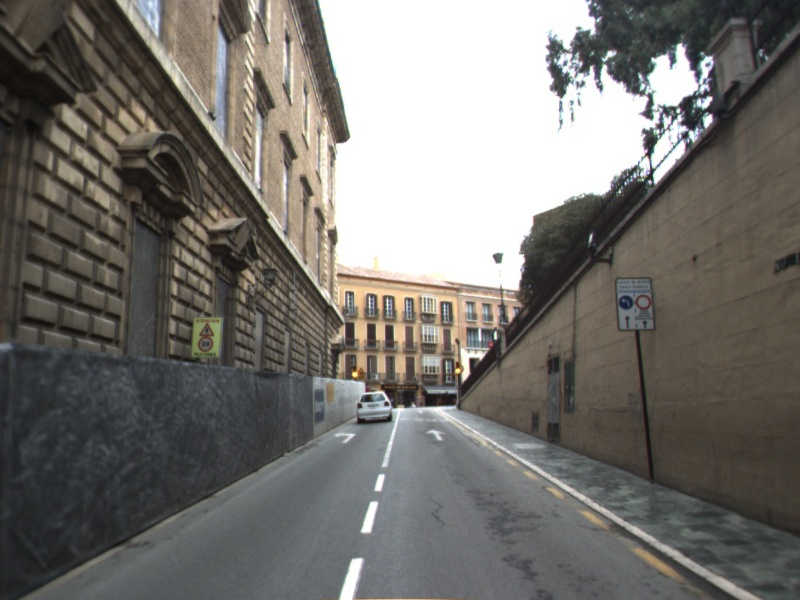LEFT: (332, 431, 358, 445)
STRAIGHT: (423, 427, 449, 443)
